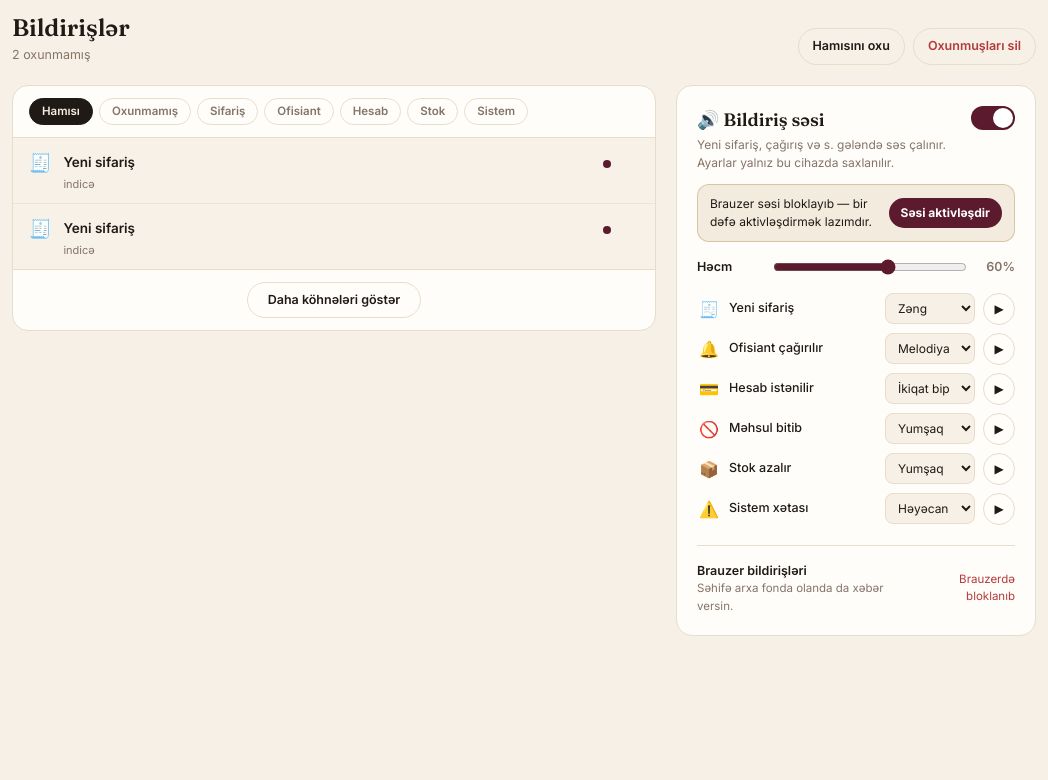
Scenario: NotificationsAdmin (bildirişlər səhifəsi) › "Daha köhnələri göstər" kursorla növbəti səhifəni gətirir və dublikat əlavə etmir
Click the button "Daha köhnələri göstər". click: (334, 300)
box: [247, 282, 421, 318]
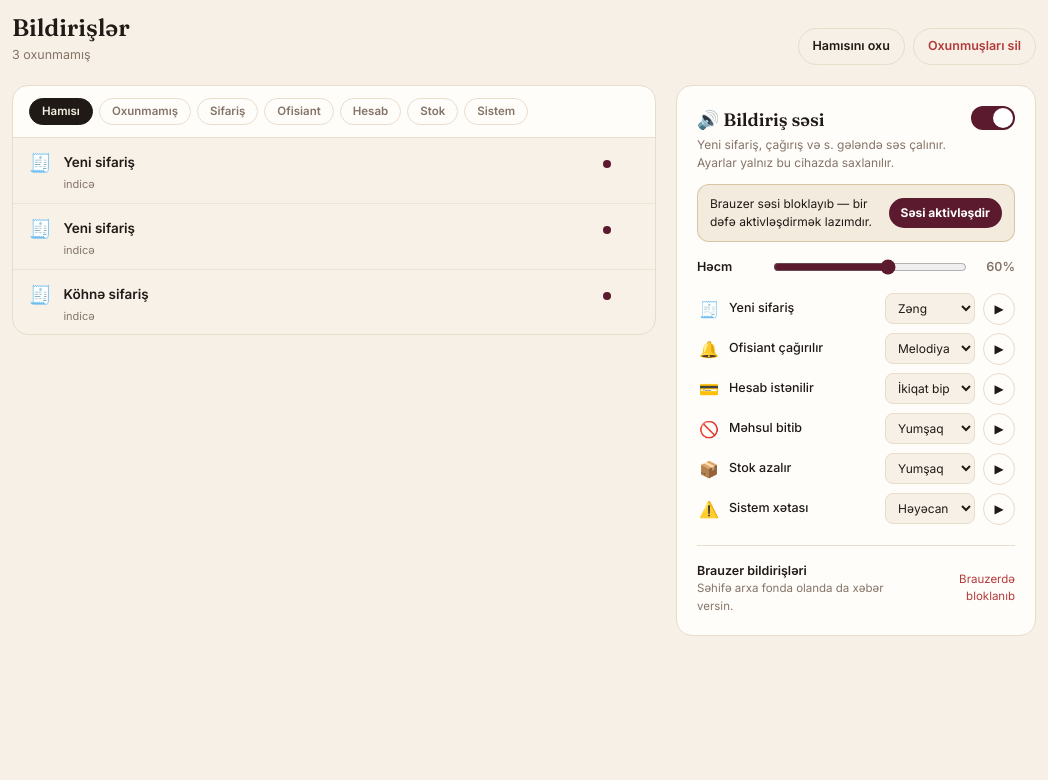
Result: the text "Köhnə sifariş" is shown at [64, 286, 149, 302]
Result: the number of list items with test id "notification-row" is 3 at [13, 138, 655, 204]; [13, 204, 655, 270]; [13, 270, 655, 334]
Result: the button "Daha köhnələri göstər" is gone
